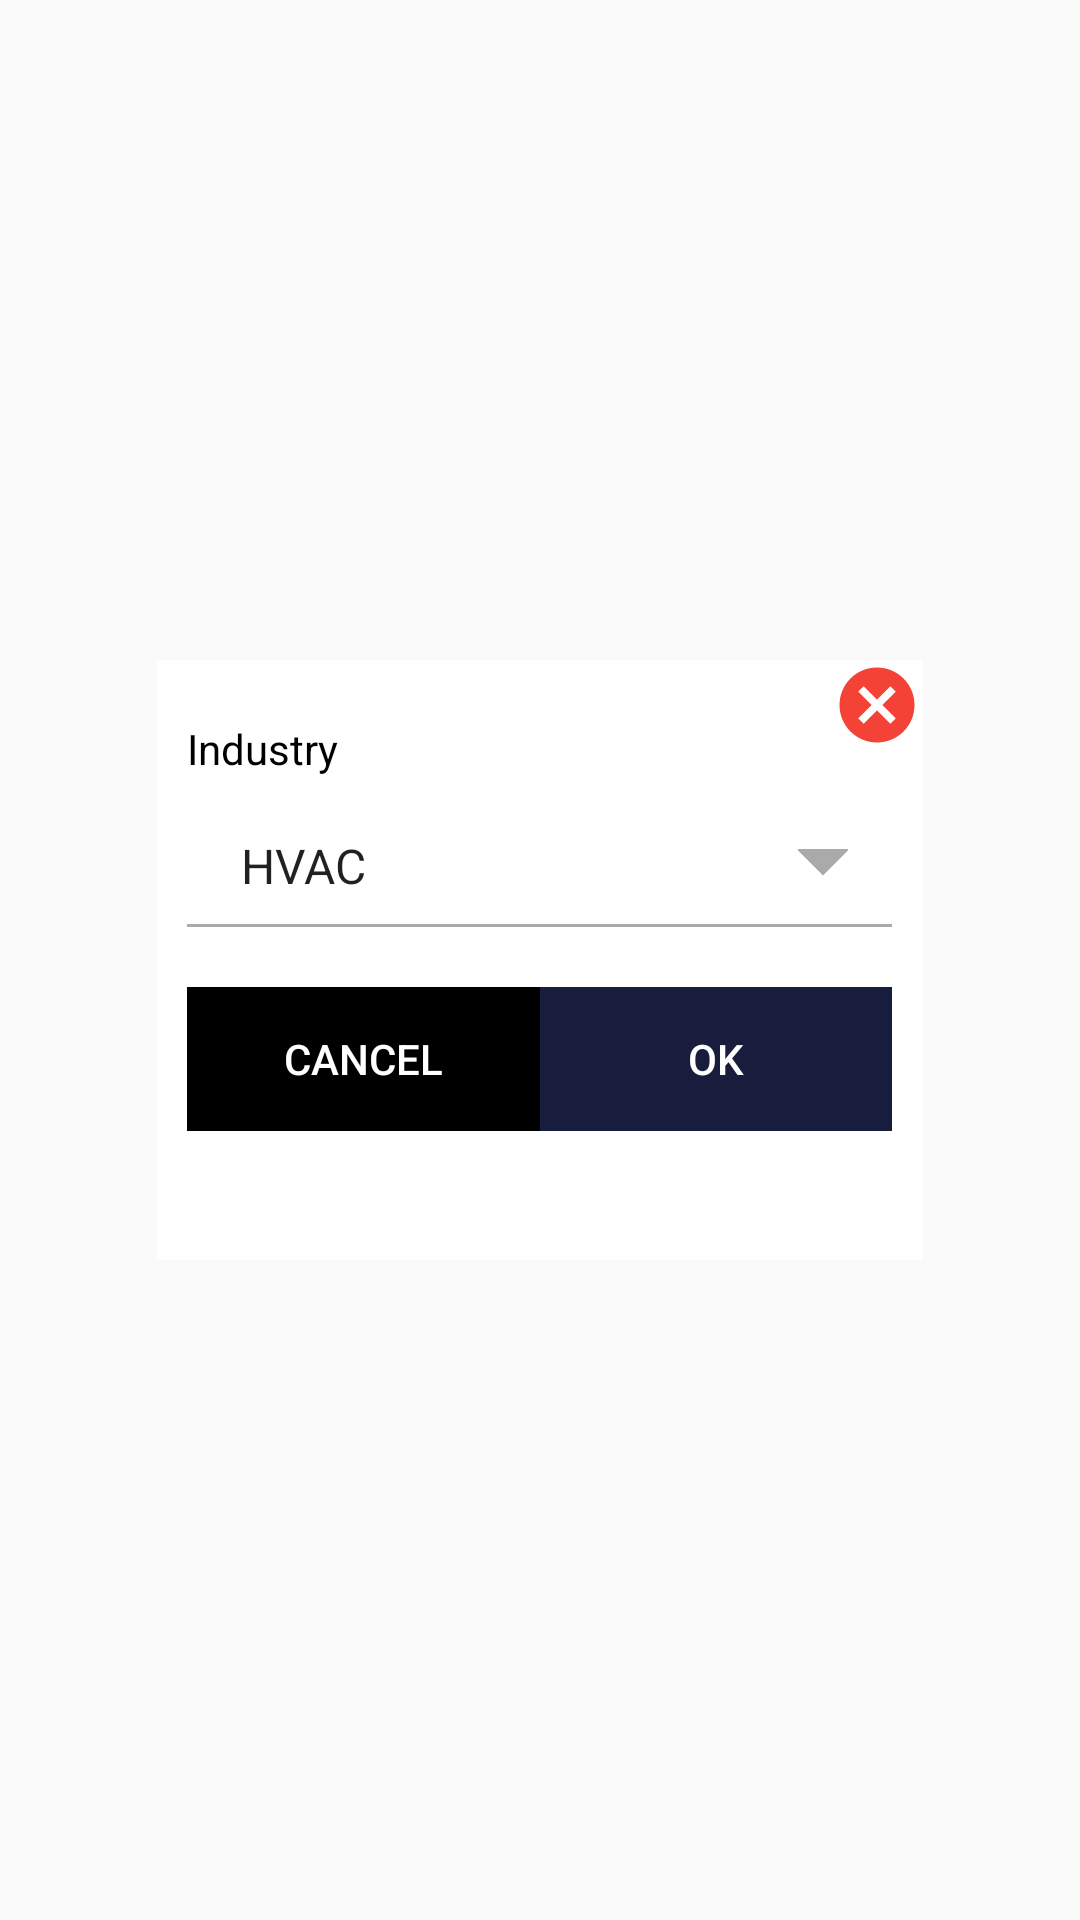

Icons on this 1080×1920 Android screen, each with its box as [left=x1, top=y1, right=x2, bottom=y2]:
cancel: [left=839, top=667, right=915, bottom=743]
